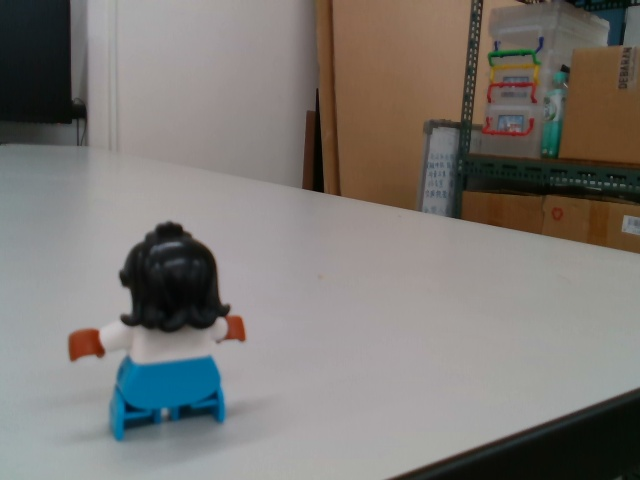people: (65, 219, 253, 446)
